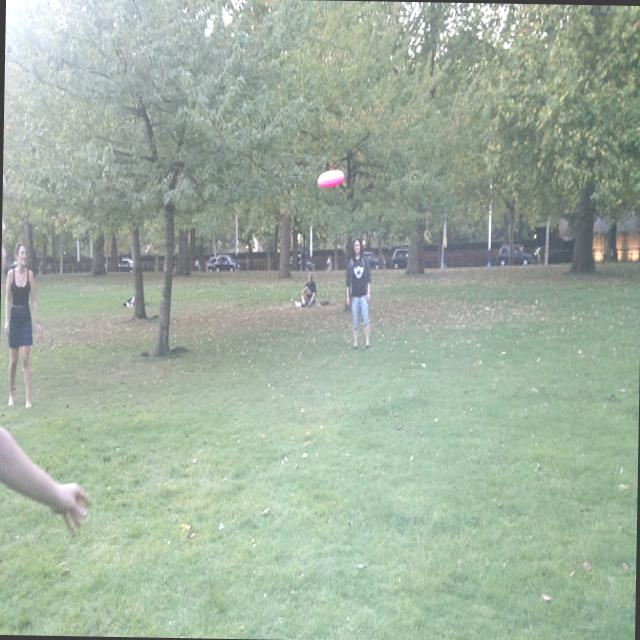Vehicle: (496, 243, 532, 268), (289, 250, 313, 271), (214, 254, 236, 274), (390, 248, 408, 270), (362, 251, 378, 268), (206, 257, 216, 272), (121, 258, 132, 270)
